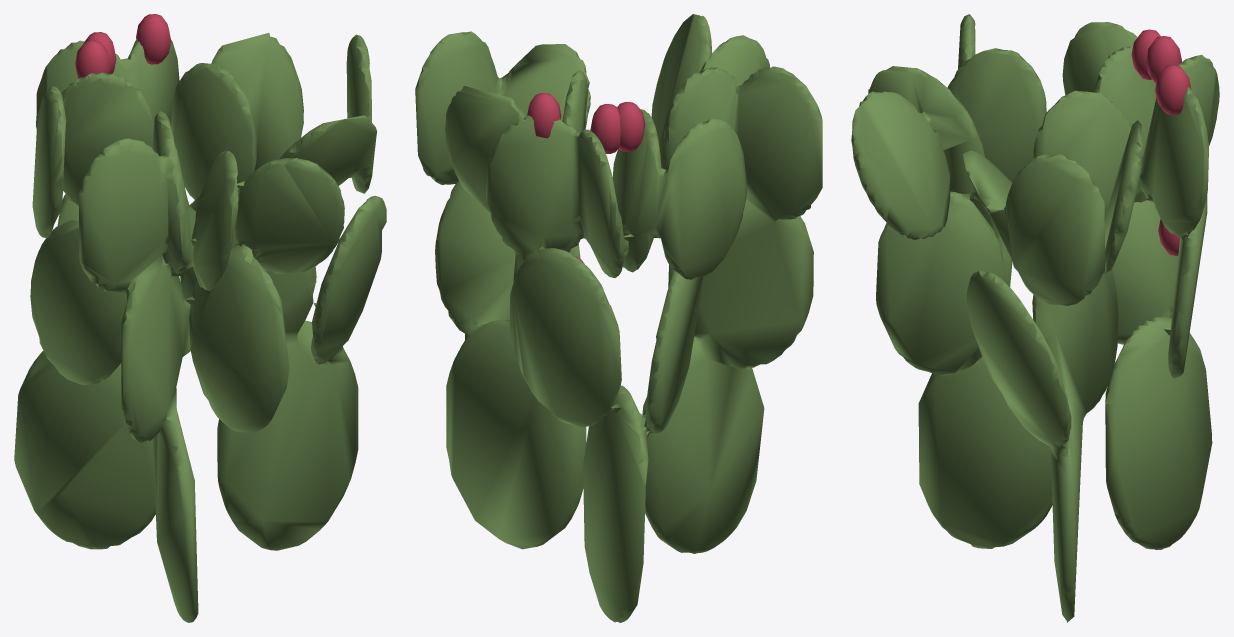
Rendered from prickly-pear.glb.
3 views of the same model, side by side, from view 1: azimuth 30°, elevation 25°; view 2: azimuth 150°, elevation 25°; view 3: azimuth 270°, elevation 25° (orthographic).
Visible parts, largest first — view 1: pad0, fruit4, fruit1; view 2: pad0, fruit3, fruit1, fruit4; view 3: pad0, fruit4, fruit3, fruit1.
Part boxes in pixels (left/top/right/bottom): pad0: left=14, top=33, right=386, bottom=622; fruit4: left=136, top=14, right=171, bottom=64; fruit1: left=75, top=40, right=110, bottom=78; pad0: left=415, top=14, right=822, bottom=622; fruit3: left=590, top=104, right=620, bottom=153; fruit1: left=617, top=102, right=645, bottom=151; fruit4: left=527, top=93, right=561, bottom=138; pad0: left=851, top=14, right=1219, bottom=622; fruit4: left=1155, top=65, right=1191, bottom=115; fruit3: left=1146, top=36, right=1181, bottom=83; fruit1: left=1131, top=29, right=1160, bottom=79.
Size of the model in its own units: 1.04 by 1.49 by 0.9706.
